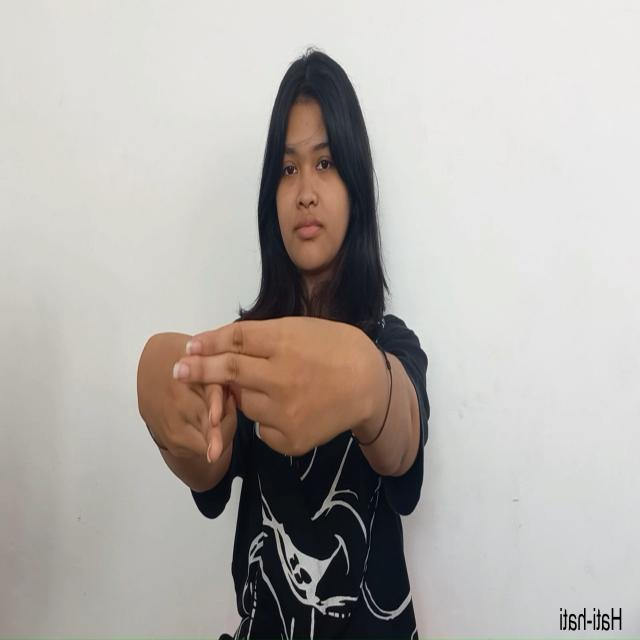Hati-hati -BISINDO-: (136, 314, 377, 459)
